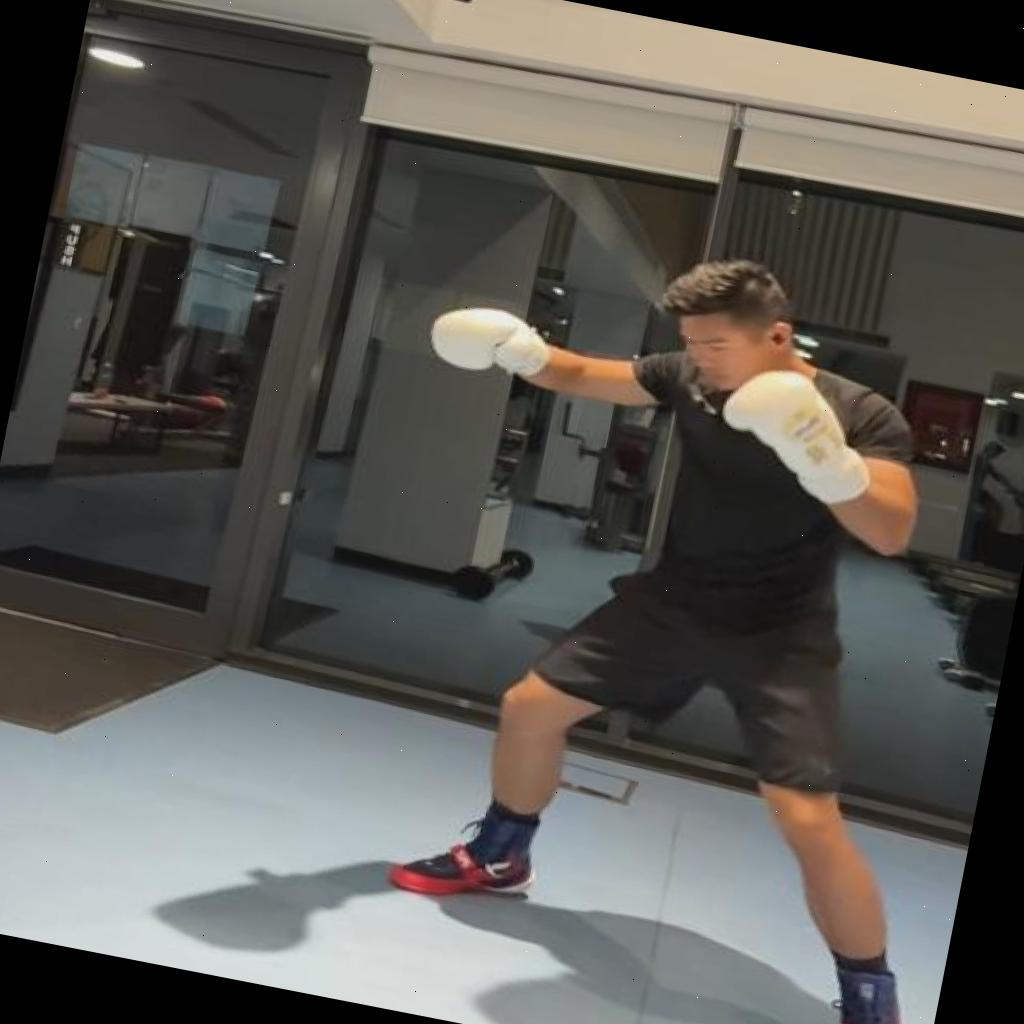hook: (297, 202, 1024, 1024)
